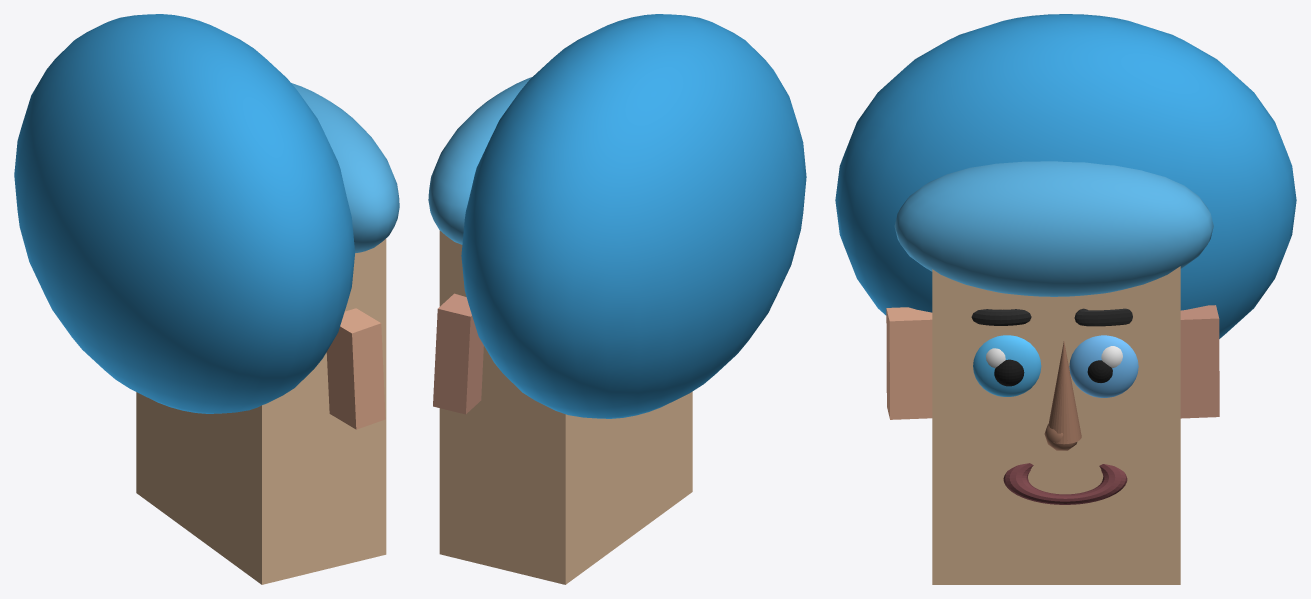
The picture shows the model from 3 angles, left to right: view 1: azimuth 30°, elevation 25°; view 2: azimuth 150°, elevation 25°; view 3: azimuth 270°, elevation 25°; orthographic projection. The views are drawn at different scales.
Parts seen in each view (by area): view 1: Sphere_002, Cube, Sphere_003, Cube_001; view 2: Sphere_002, Cube, Sphere_003, Cube_002; view 3: Sphere_002, Cube, Sphere_003, Cube_001, Cube_002, Sphere, Sphere_001, Torus_002, Cone, Torus, Torus_001, Sphere_005.
Boxes of the visible parts, x1,y1,x2,y2 form: Sphere_002: (14,14,354,413); Cube: (136,238,386,584); Sphere_003: (291,83,399,253); Cube_001: (326,308,385,429); Sphere_002: (461,14,806,418); Cube: (439,230,692,584); Sphere_003: (428,77,531,244); Cube_002: (433,293,483,414); Sphere_002: (835,14,1296,338); Cube: (932,266,1180,584); Sphere_003: (894,161,1213,296); Cube_001: (886,307,932,419); Cube_002: (1180,305,1219,418); Sphere: (1069,335,1138,397); Sphere_001: (973,335,1041,396); Torus_002: (1003,463,1127,504); Cone: (1048,341,1081,444); Torus: (1074,308,1132,326); Torus_001: (971,309,1031,325); Sphere_005: (994,359,1024,386).
Bounding box in the file's own units: 0.0945 × 0.13 × 0.1545.
